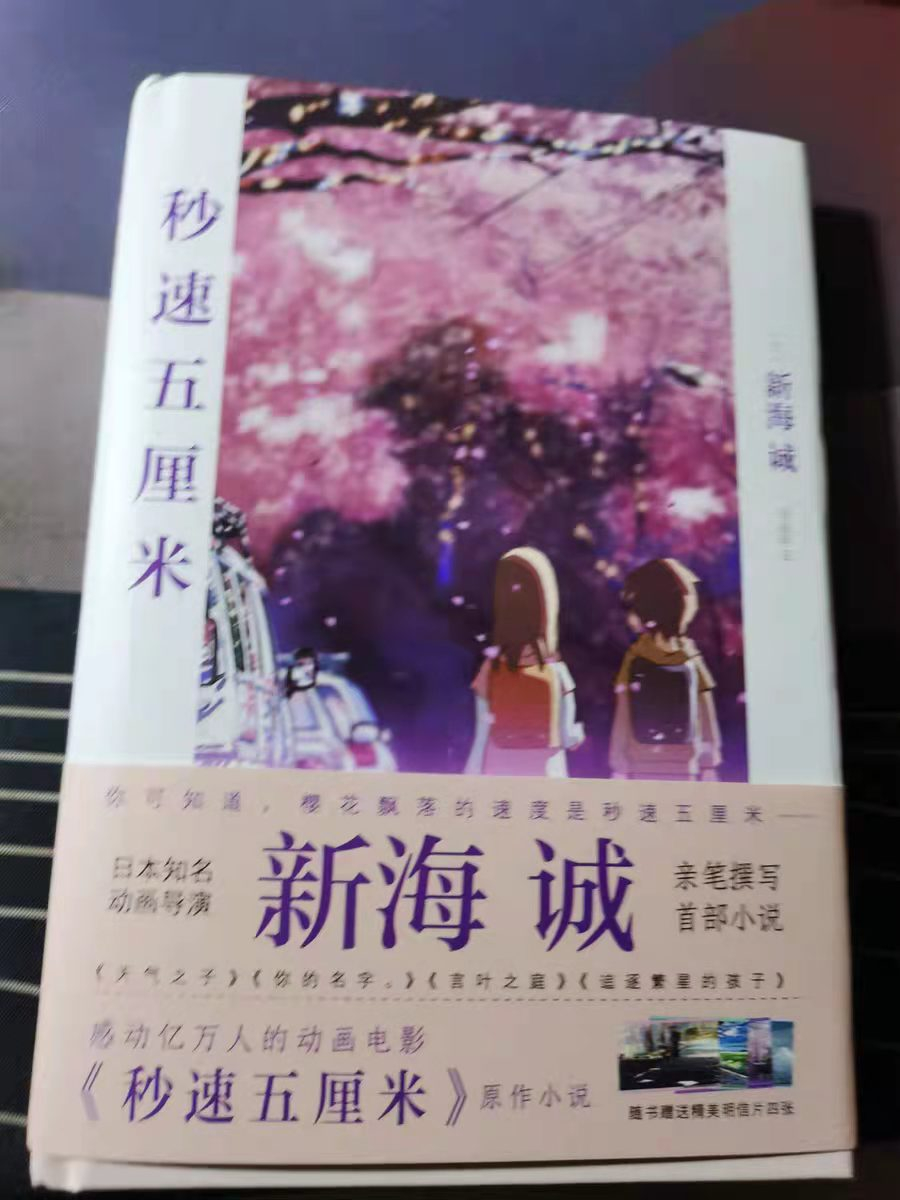book: (41, 63, 859, 1189)
